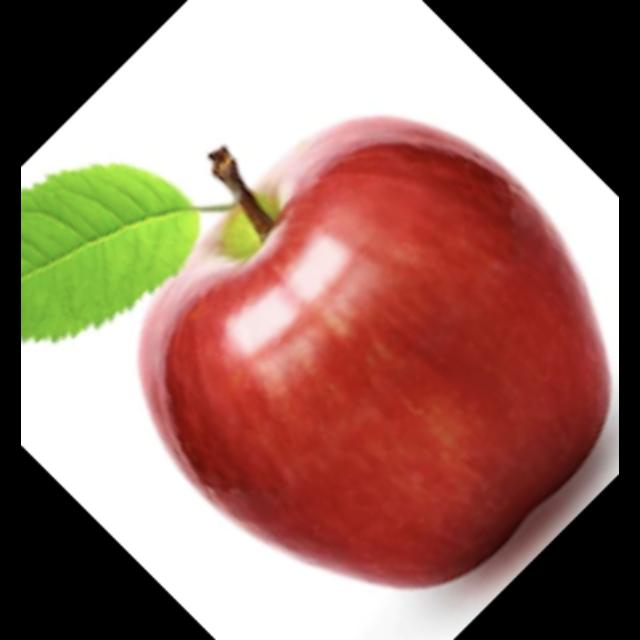Apel Segar: (140, 120, 606, 592)
